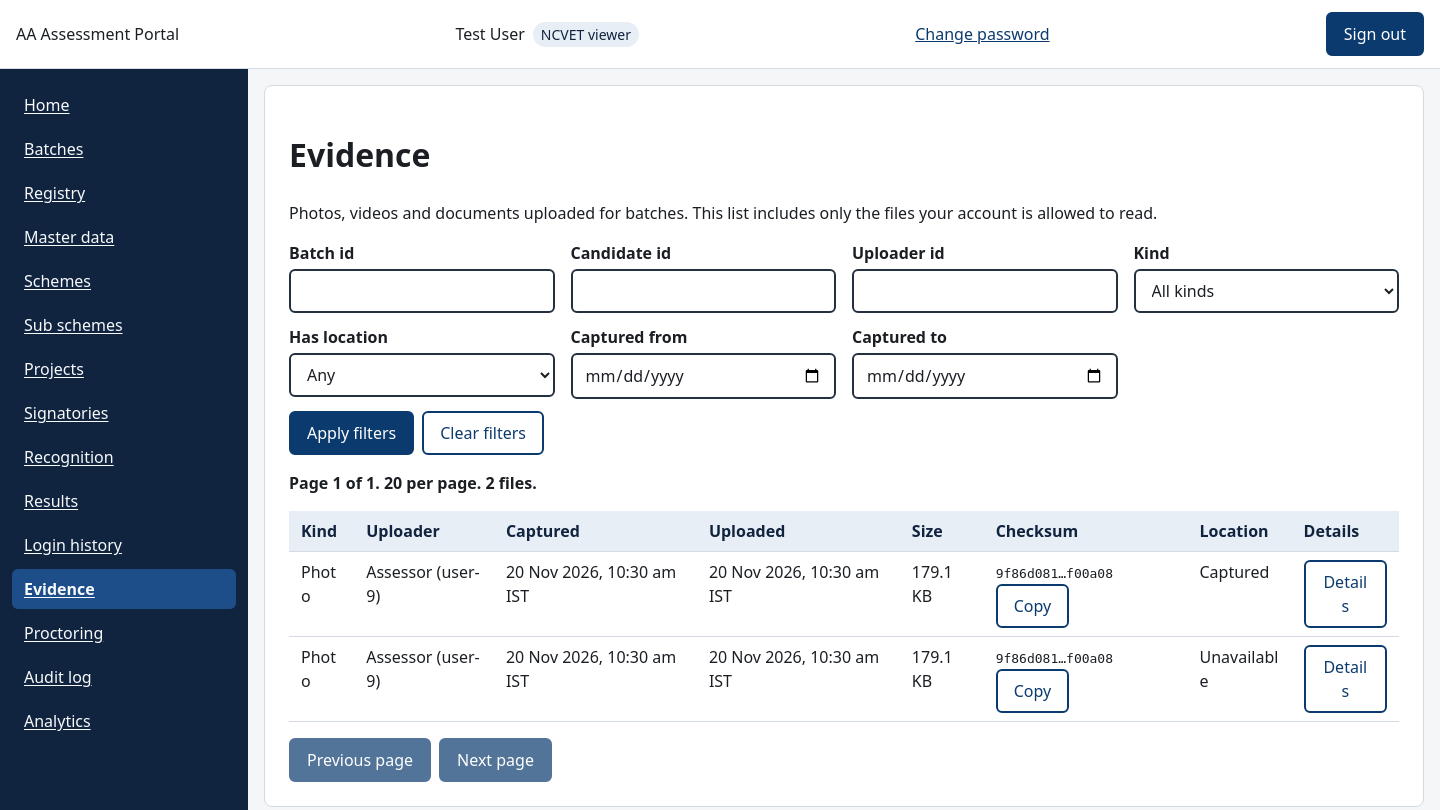
shows the location as text without a map, and the unavailable reason
This screenshot has width=1440, height=810.
What coordinates should you click on to do the following:
click the button with aria-label "Details for"
I would click on:
 (1345, 594)
Its box is [1304,560,1387,628].
(page scrolled)
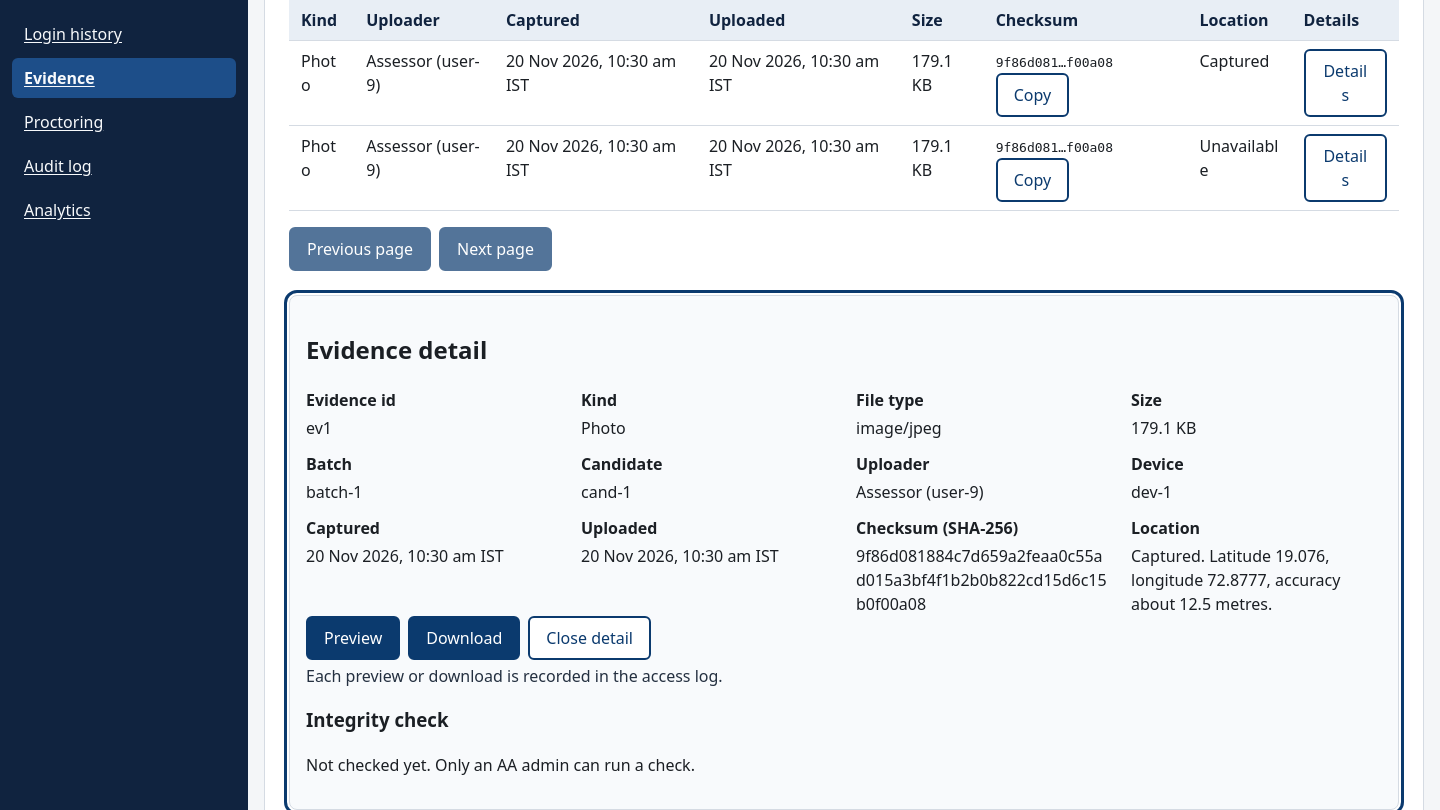
Expected: the text "Latitude 19.076, longitude 72.8777, accuracy about 12.5 metres" is shown, [1131,545,1344,615]
Expected: the text "9f86d081884c7d659a2feaa0c55ad015a3bf4f1b2b0b822cd15d6c15b0f00a08" is shown, [856,544,1107,616]
Expected: the text "Not checked yet. Only an AA admin can run a check." is shown, [306,754,695,776]
What coordinates should you click on to do the following:
click the button with aria-label "Details for"
I would click on:
 (1345, 168)
Its box is [1304,134,1387,202].
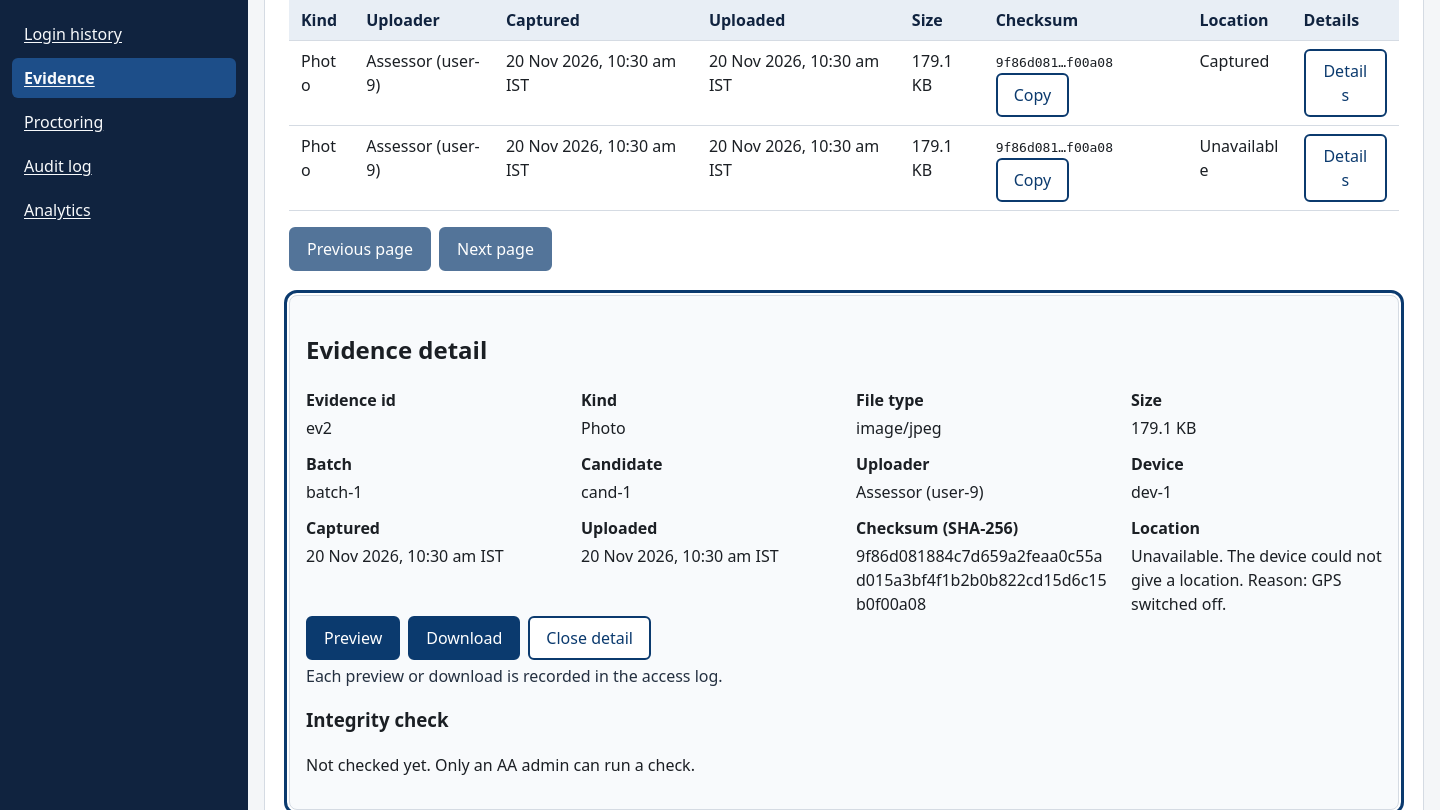
Expected: the text "Reason: GPS switched off" is shown, [1131,545,1386,615]
